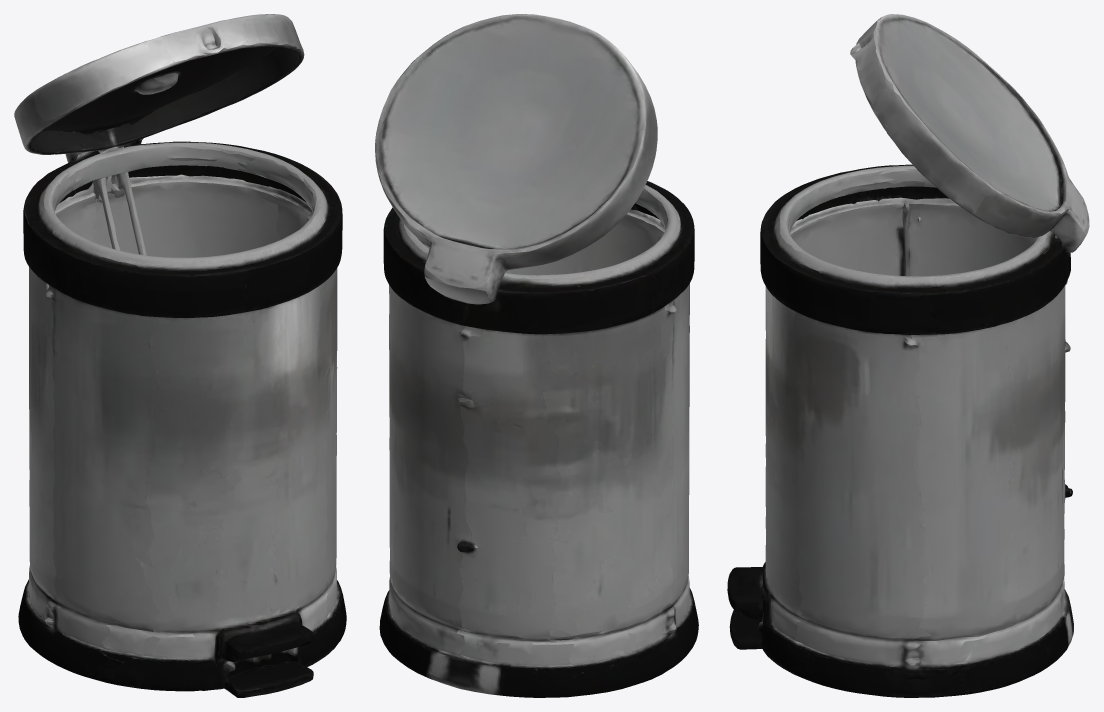
The picture shows the model from 3 angles, left to right: view 1: azimuth 30°, elevation 25°; view 2: azimuth 150°, elevation 25°; view 3: azimuth 270°, elevation 25°; orthographic projection. The views are drawn at different scales.
Visible parts, largest first — view 1: geometry_0; view 2: geometry_0; view 3: geometry_0.
Boxes of the visible parts, x1,y1,x2,y2 form: geometry_0: (14, 14, 346, 697); geometry_0: (375, 14, 698, 697); geometry_0: (727, 14, 1089, 697).
Bounding box in the file's own units: 0.2653 × 0.55 × 0.3026.
1 material, 1 textured.
